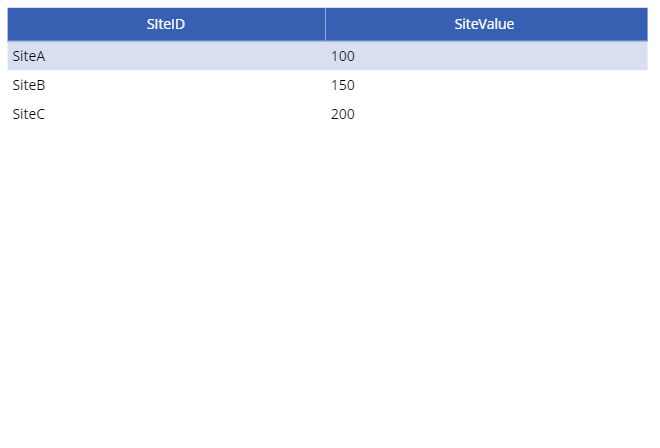

This screenshot's page, from the dashboard's own definition file:
{"tool":"powerbi","page":{"name":"Page 1","canvas":[1280,720],"ordinal":0},"visuals":[{"type":"tableEx","fields":{"Values":["SitesAndUsrPerm.SIteID","Sum(SitesAndUsrPerm.SiteValue)"]},"box":[334.3,246.1,610.2,159.1],"z":0}]}

Visuals, with their boxes on the page's 1280x720 design canvas (x1, y1, x2, y2). These are canvas units, not pixel positions in the 660x448 screenshot, which may show the page scaled, cropped or inside an application window:
tableEx - SitesAndUsrPerm.SIteID x Sum(SitesAndUsrPerm.SiteValue): region(334, 246, 944, 405)
